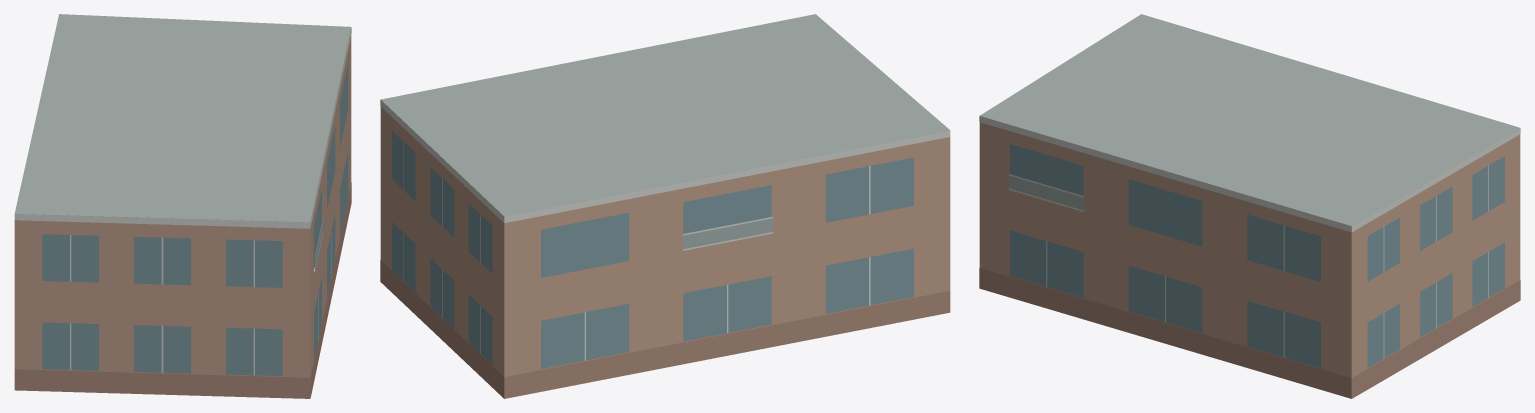
File: survey-upis-32951509.glb
The picture shows the model from 3 angles, left to right: view 1: azimuth 30°, elevation 25°; view 2: azimuth 150°, elevation 25°; view 3: azimuth 270°, elevation 25°; orthographic projection. The views are drawn at different scales.
Visible parts, largest first — view 1: survey-upis-32951509.tmp; view 2: survey-upis-32951509.tmp; view 3: survey-upis-32951509.tmp.
Part boxes in pixels (<box>): survey-upis-32951509.tmp: <box>14,14,351,398</box>; survey-upis-32951509.tmp: <box>380,14,950,398</box>; survey-upis-32951509.tmp: <box>979,14,1520,398</box>.
Size of the model in its own units: 17.66 by 6.7 by 19.03.
